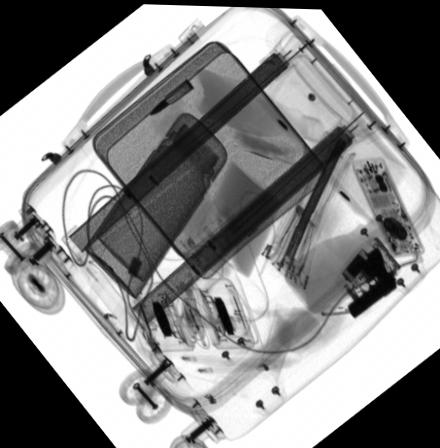Bullet: (146, 75, 193, 113)
Gun: (346, 243, 397, 312)
